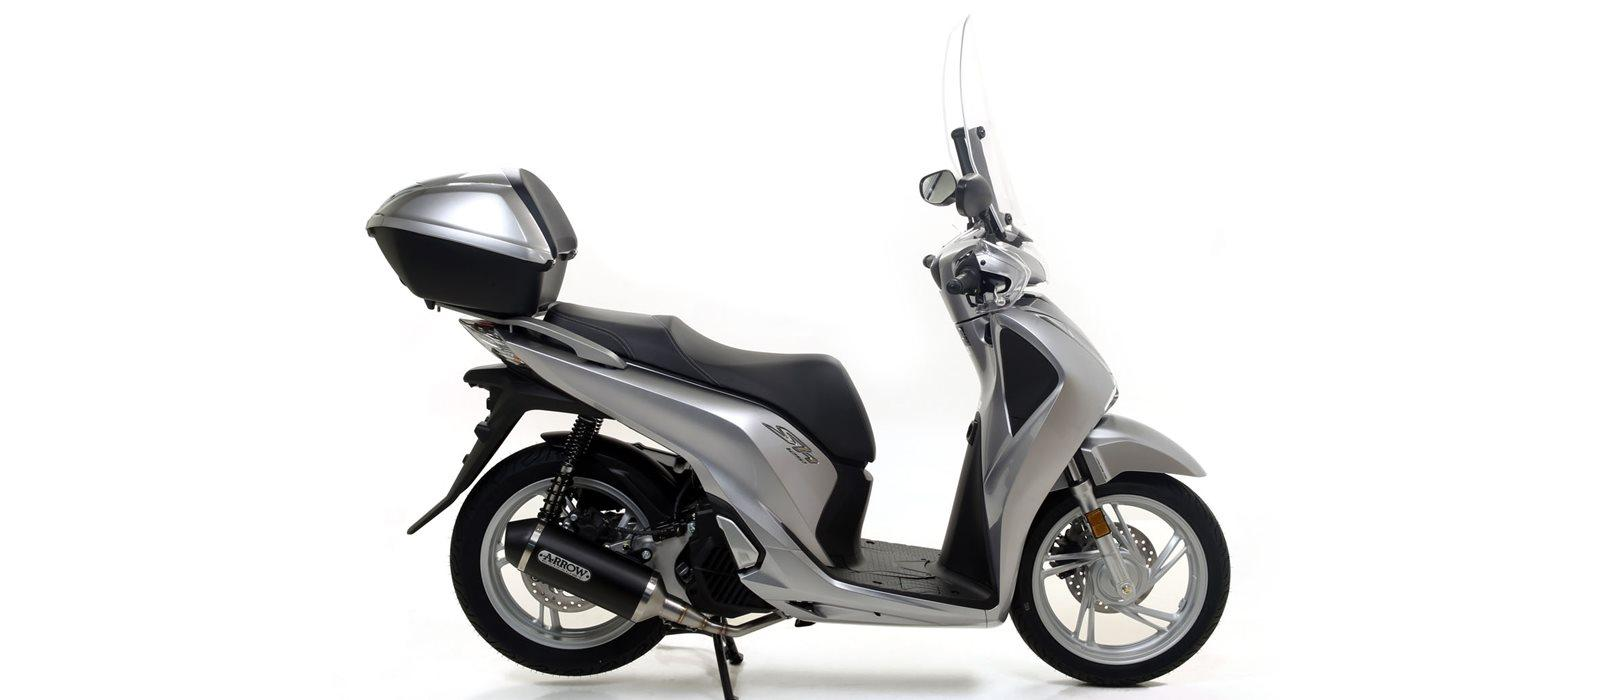engine-chasis: (676, 491, 987, 629), (537, 414, 604, 523), (712, 634, 744, 700)
exhaust: (505, 513, 793, 638)
frontside: (953, 291, 1207, 629), (942, 14, 1049, 289), (819, 537, 1000, 609)
handlebar: (918, 168, 1033, 322)
motorbike: (366, 19, 1231, 698)
rearside: (365, 167, 873, 568), (585, 434, 708, 604), (540, 431, 570, 449)
seat: (542, 301, 877, 463)
tank: (938, 410, 999, 592)
wheel: (449, 442, 669, 677), (1009, 471, 1232, 686), (556, 456, 658, 545), (614, 469, 694, 536)
